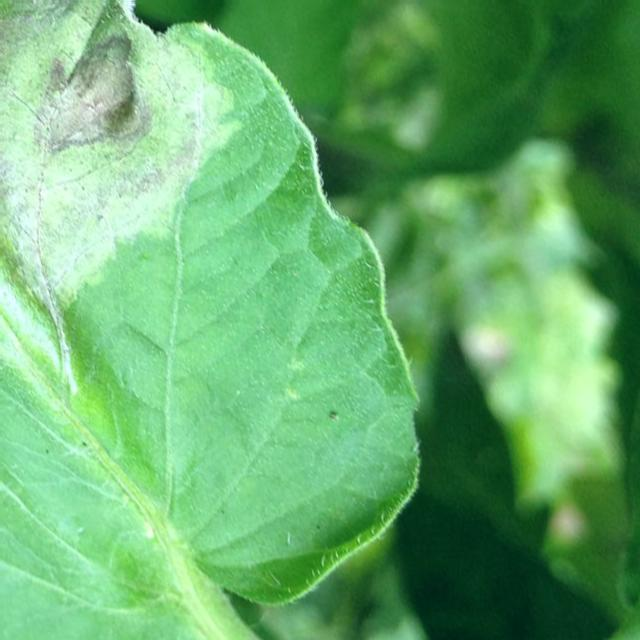Tomato leaf late blight: (0, 0, 451, 640)
